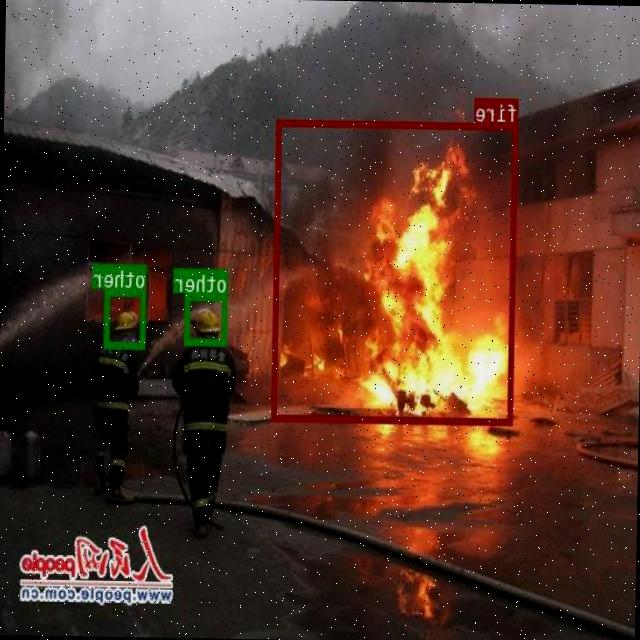fire: (272, 119, 518, 424)
